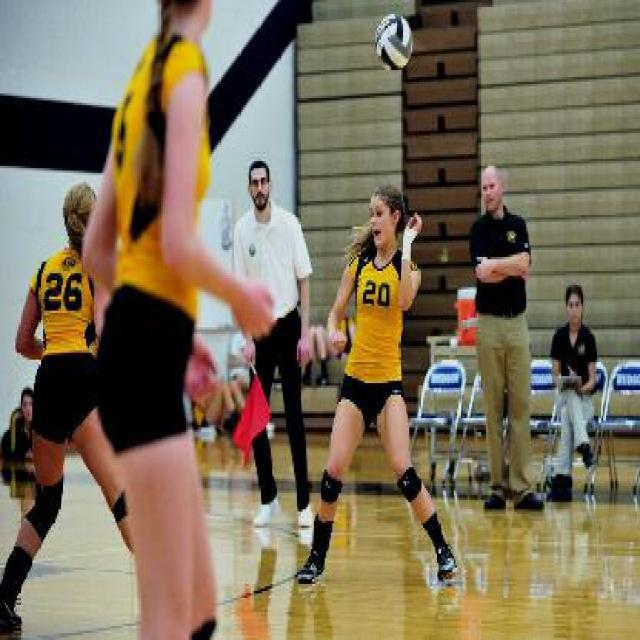volleyball: (374, 14, 414, 70)
